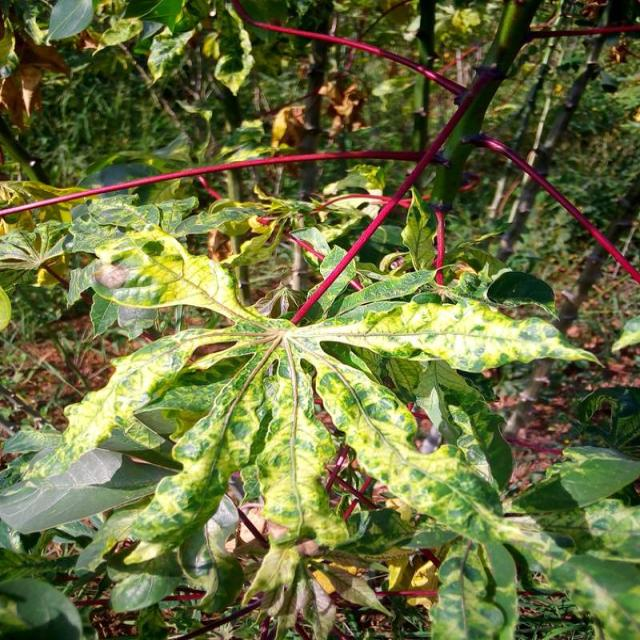cassava leaf: (2, 192, 613, 636)
